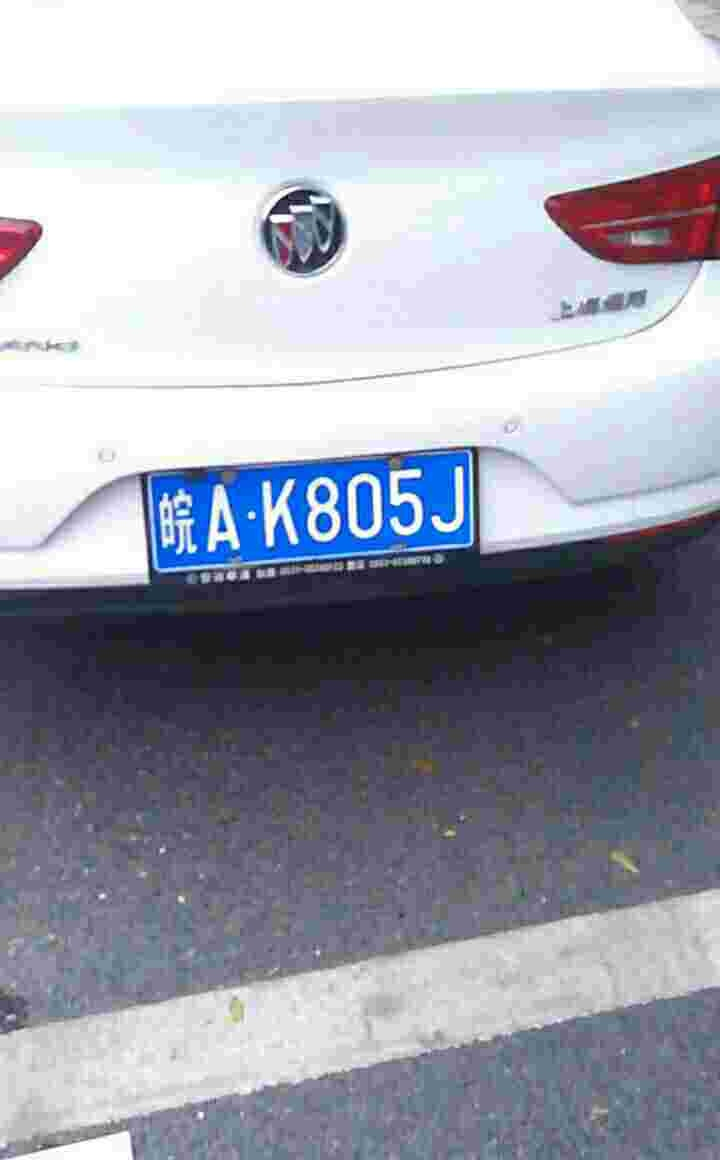license_plate: (148, 452, 490, 571)
